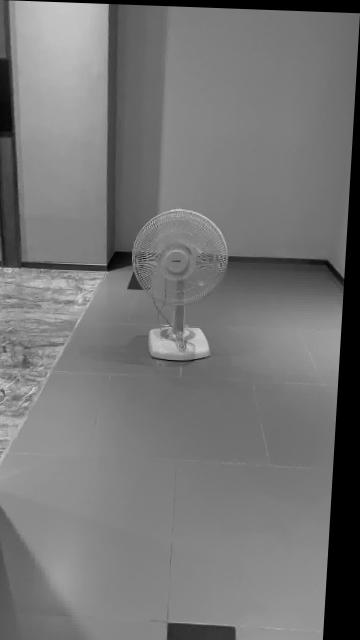Fan: (135, 207, 231, 360)
